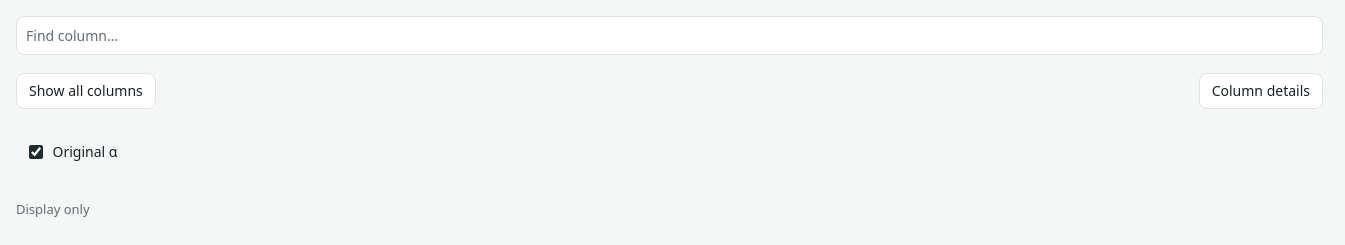
it: discloses unique-column context only on request without changing visibility or raw data
Expected: the text "RAW assay / 原始条件 1 nM" is not shown
Click the button "Column details" at [1261, 91], box [1199,73,1323,109]
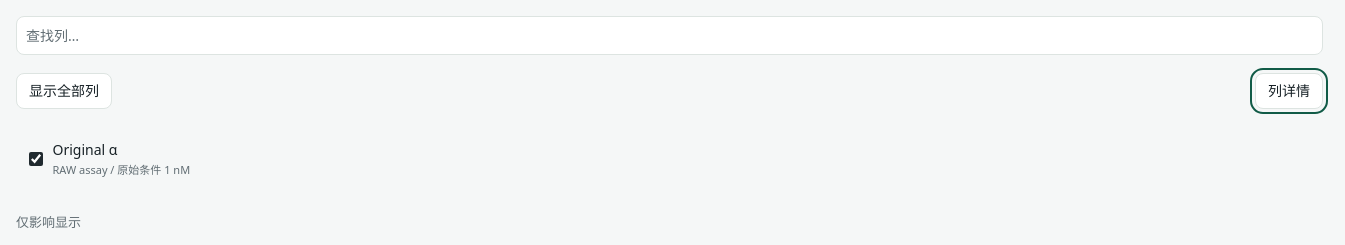
Now the button "列详情" is expanded
Now the text "RAW assay / 原始条件 1 nM" is shown, box [52,162,190,177]
Click the button "列详情" at [1289, 91], box [1255,73,1323,109]
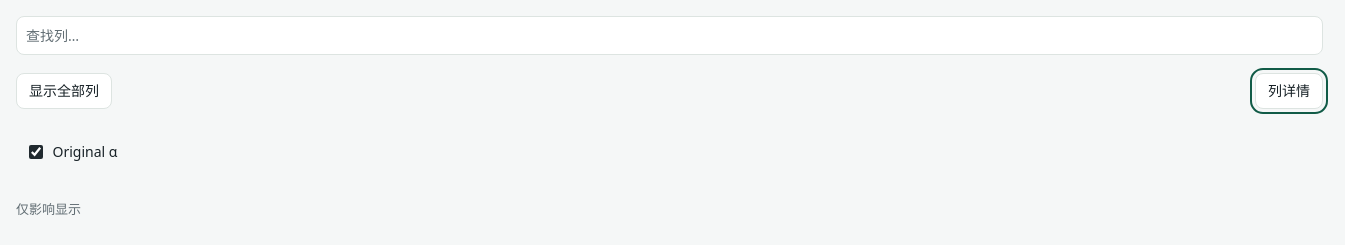
Now the text "RAW assay / 原始条件 1 nM" is gone
